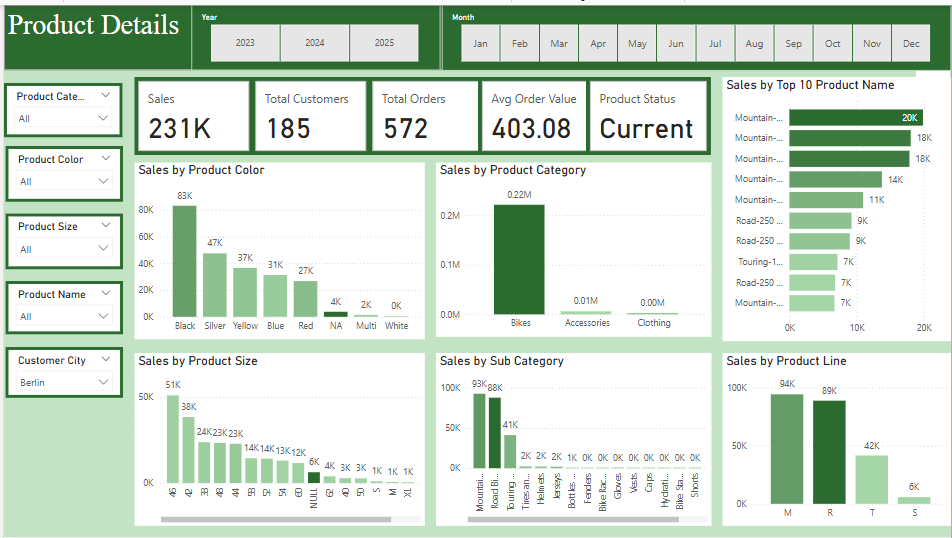

The dashboard page shown, as its layout file describes it:
{"tool":"powerbi","page":{"name":"Product Details","canvas":[1280,720],"ordinal":2},"visuals":[{"type":"textbox","box":[0,0,1280,88],"z":0},{"type":"slicer","fields":{"Values":["DIM_Product.Product Category"]},"box":[0,105,160,73.3],"z":1000},{"type":"slicer","fields":{"Values":["DIM_Product.Product Color"]},"box":[1.7,190,158.3,75],"z":2000},{"type":"slicer","fields":{"Values":["DIM_Product.Product Size"]},"box":[1.7,281.7,158.3,75],"z":3000},{"type":"slicer","fields":{"Values":["DIM_Product.Product Name"]},"box":[1.7,373.3,158.3,71.7],"z":4000},{"type":"slicer","fields":{"Values":["DIM_Calendar.Year"]},"box":[254,0,336,88],"z":5000},{"type":"slicer","fields":{"Values":["DIM_Calendar.MonthShort"]},"box":[591.7,0,688.3,88.3],"z":6000},{"type":"cardVisual","fields":{"Data":["FACT_InternetSales.Sales","Measure Table.Total Customers","Measure Table.Total Orders"]},"box":[176.7,96.7,476.7,105],"z":7000},{"type":"columnChart","fields":{"Category":["DIM_Product.Product Color"],"Y":["Measure Table.Sales"]},"box":[176.7,213.3,391.7,238.3],"z":8000},{"type":"columnChart","fields":{"Y":["Measure Table.Sales"],"Category":["DIM_Product.Product Line"]},"box":[970,470,310,233.3],"z":9000},{"type":"slicer","fields":{"Values":["DIM_Customer.Customer City"]},"box":[1.7,461.7,158.3,68.3],"z":10000},{"type":"cardVisual","fields":{"Data":["Measure Table.Average Order Value"]},"box":[640,96.7,161.7,105],"z":11000},{"type":"barChart","title":"Sales by Top 10 Product Name","fields":{"Category":["DIM_Product.Product Name"],"Y":["Measure Table.Sales"]},"box":[970,96.7,310,356.7],"z":12000},{"type":"columnChart","fields":{"Category":["DIM_Product.Product Category"],"Y":["Measure Table.Sales"]},"box":[583.3,213.3,371.7,235],"z":13000},{"type":"cardVisual","fields":{"Data":["Min(DIM_Product.Product Status)"]},"box":[786.7,96.7,168.3,105],"z":14000},{"type":"columnChart","fields":{"Y":["Measure Table.Sales"],"Category":["DIM_Product.Product Size"]},"box":[176.7,470,391.7,233.3],"z":15000},{"type":"columnChart","fields":{"Y":["Measure Table.Sales"],"Category":["DIM_Product.Sub Category"]},"box":[583.3,470,371.7,233.3],"z":16000}]}

Visuals, with their boxes in screenshot pixels (x1, y1, x2, y2), scaled from the page's 1280x720 canvas onto the 952x538 screenshot:
textbox: <region>0, 0, 951, 66</region>
slicer - DIM_Product.Product Category: <region>0, 78, 119, 133</region>
slicer - DIM_Product.Product Color: <region>1, 142, 119, 198</region>
slicer - DIM_Product.Product Size: <region>1, 210, 119, 267</region>
slicer - DIM_Product.Product Name: <region>1, 279, 119, 333</region>
slicer - DIM_Calendar.Year: <region>189, 0, 439, 66</region>
slicer - DIM_Calendar.MonthShort: <region>440, 0, 951, 66</region>
cardVisual - FACT_InternetSales.Sales x Measure Table.Total Customers: <region>131, 72, 486, 151</region>
columnChart - DIM_Product.Product Color x Measure Table.Sales: <region>131, 159, 423, 337</region>
columnChart - Measure Table.Sales x DIM_Product.Product Line: <region>721, 351, 951, 526</region>
slicer - DIM_Customer.Customer City: <region>1, 345, 119, 396</region>
cardVisual - Measure Table.Average Order Value: <region>476, 72, 596, 151</region>
"Sales by Top 10 Product Name" barChart: <region>721, 72, 951, 339</region>
columnChart - DIM_Product.Product Category x Measure Table.Sales: <region>434, 159, 710, 335</region>
cardVisual - Min(DIM_Product.Product Status): <region>585, 72, 710, 151</region>
columnChart - Measure Table.Sales x DIM_Product.Product Size: <region>131, 351, 423, 526</region>
columnChart - Measure Table.Sales x DIM_Product.Sub Category: <region>434, 351, 710, 526</region>
